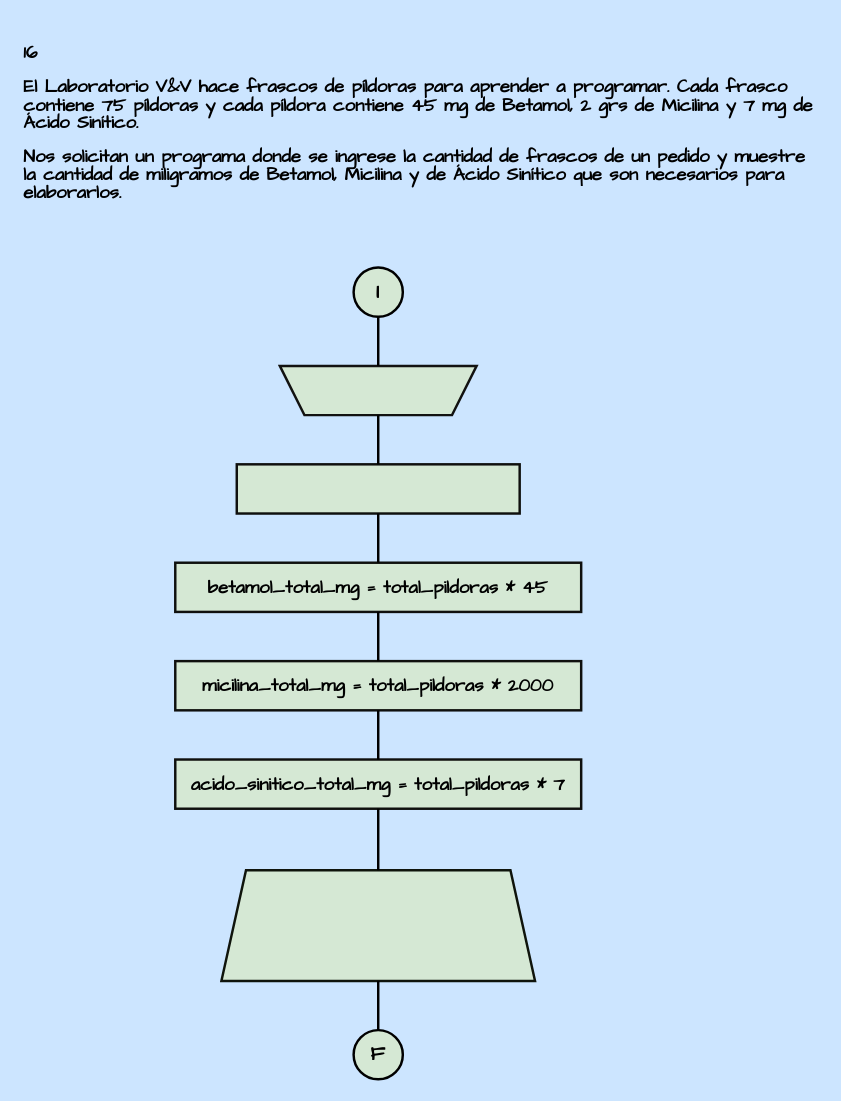
This 841x1101 diagram has some shape labels left out. The shapes that lost their labels are listed below. From the top down, each one's centre as x and y in pixels, then its label:
At (377,390): "frascos".
At (377,488): "total_pildoras = frascos * 75".
At (378,925): "frascos, betamol_total_mg, micilina_total_mg, acido_sinitico_total_mg".
